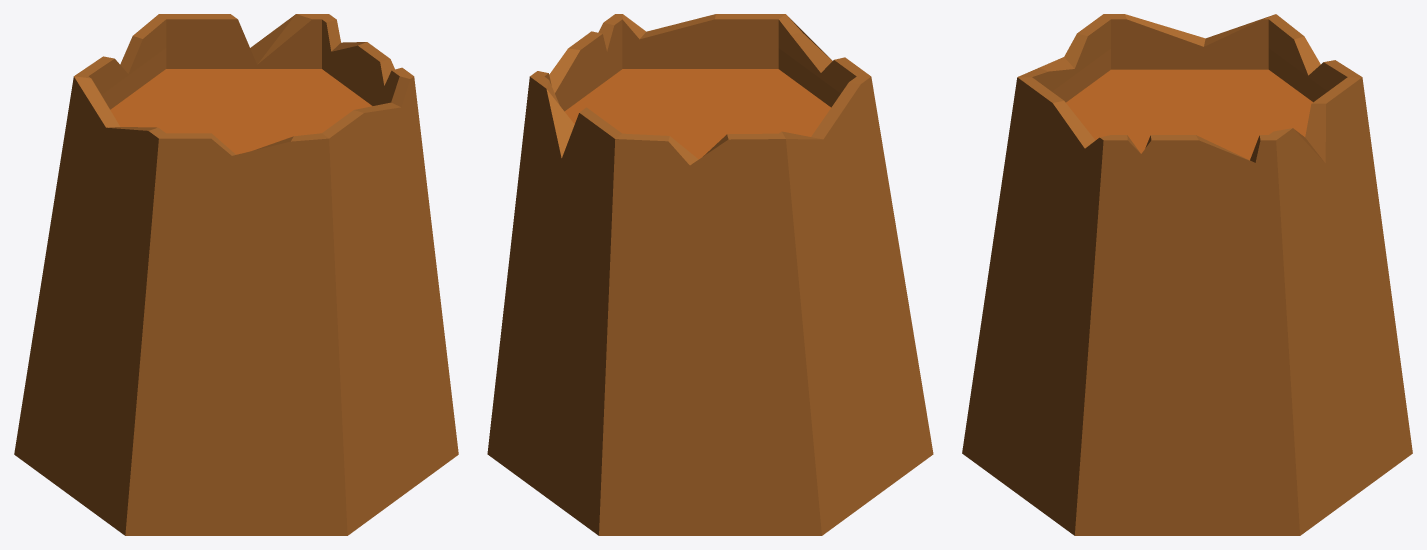
The model's file is tree_base_new.gltf.
3 renders of one model, left to right at view 1: azimuth 30°, elevation 25°; view 2: azimuth 150°, elevation 25°; view 3: azimuth 270°, elevation 25°, orthographic.
Parts seen in each view (by area): view 1: tree_base_base, tree_base_wood; view 2: tree_base_base, tree_base_wood; view 3: tree_base_base, tree_base_wood.
Boxes of the visible parts, <box> form: tree_base_base: <box>14,14,458,535</box>; tree_base_wood: <box>110,69,372,154</box>; tree_base_base: <box>487,14,933,535</box>; tree_base_wood: <box>564,69,830,159</box>; tree_base_base: <box>962,14,1412,535</box>; tree_base_wood: <box>1066,69,1312,160</box>.
Size of the model in its own units: 1.27 by 1.37 by 1.47.
